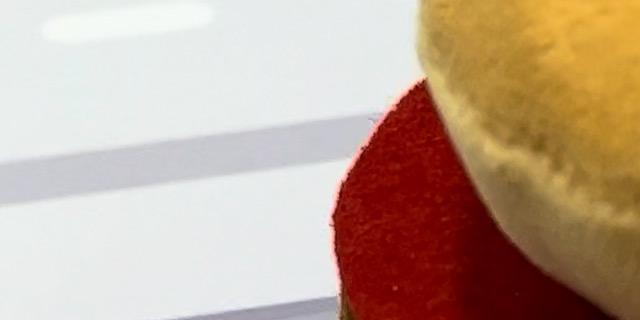burger: (304, 0, 640, 320)
